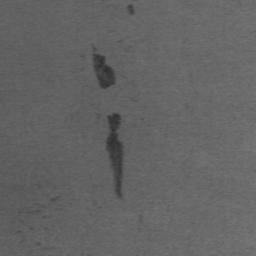Iron scale compression: (107, 113, 123, 199), (90, 44, 116, 90), (126, 3, 136, 17)
